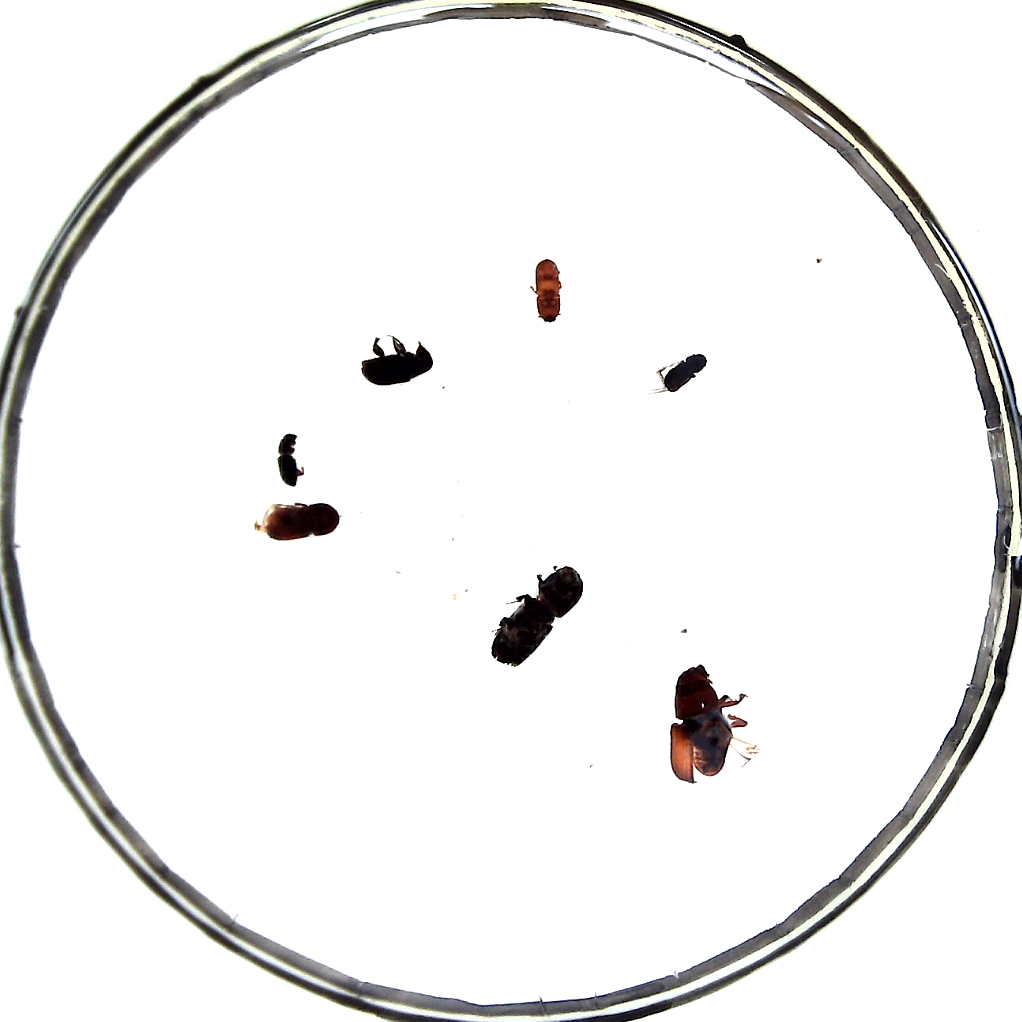Boerner: (490, 562, 580, 667)
Leconte: (669, 661, 747, 782)
Linnaeus: (260, 504, 339, 542)
acuminatus: (533, 255, 566, 326)
armandi: (366, 341, 435, 386)
coleoptera: (662, 352, 708, 397), (274, 429, 304, 489)
